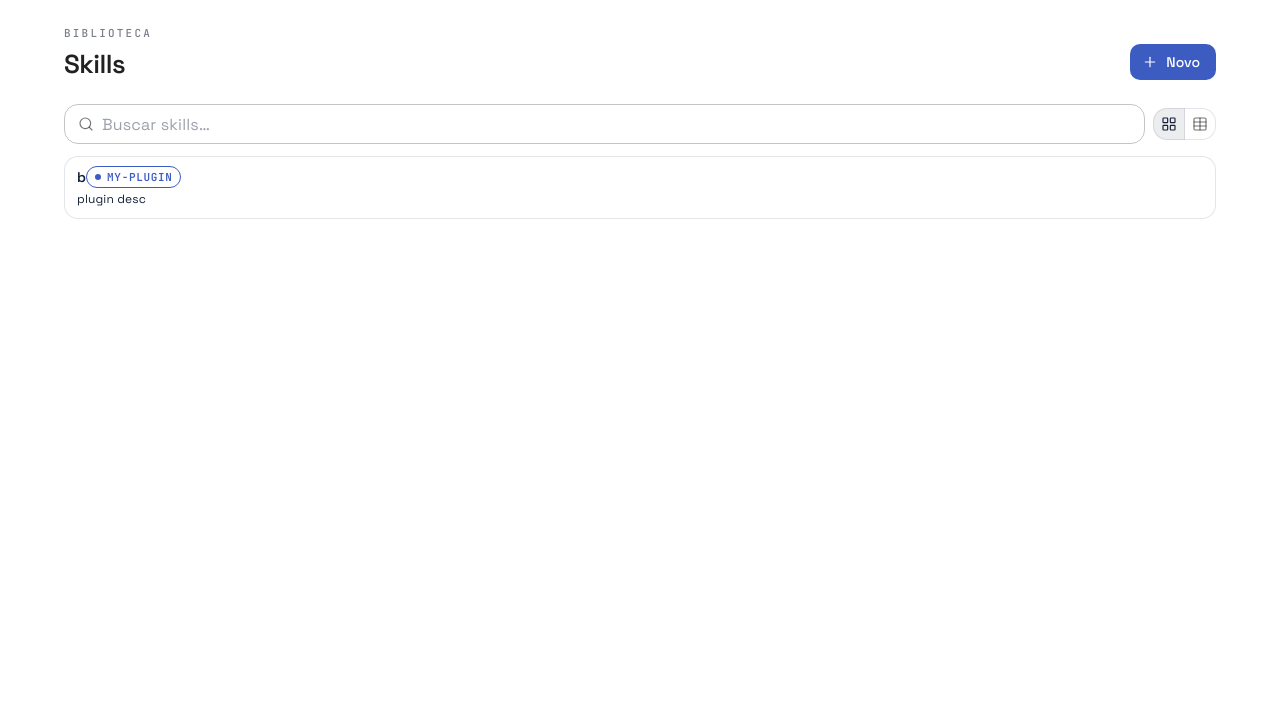
Scenario: <CustomizationListScreen> › hides Edit button in drawer for plugin items
Click the element with test id "entity-grid-card-skill-plugin/urn:skill:b".
click(640, 188)  # box [64,156,1216,219]
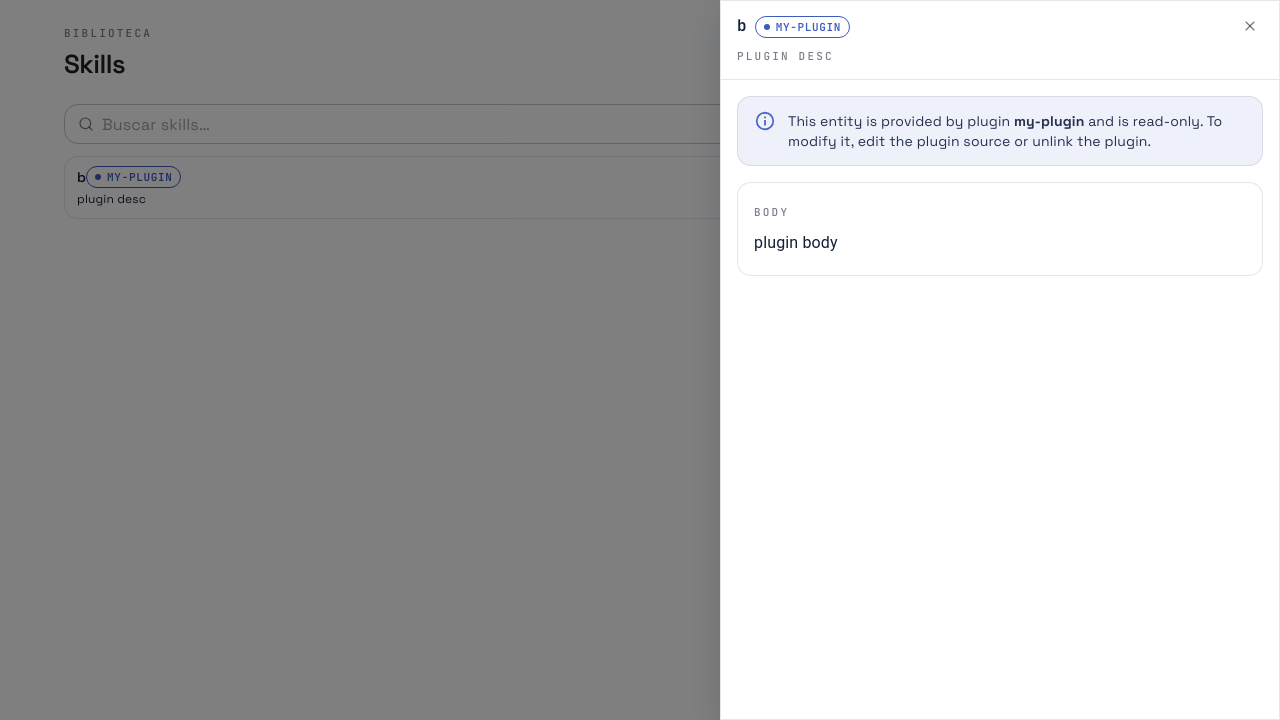
Result: the dialog with test id "detail-drawer-customization" is shown at [720,0,1279,719]
